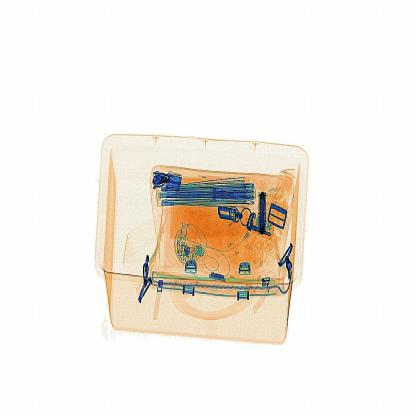scissors: (246, 180, 279, 240)
